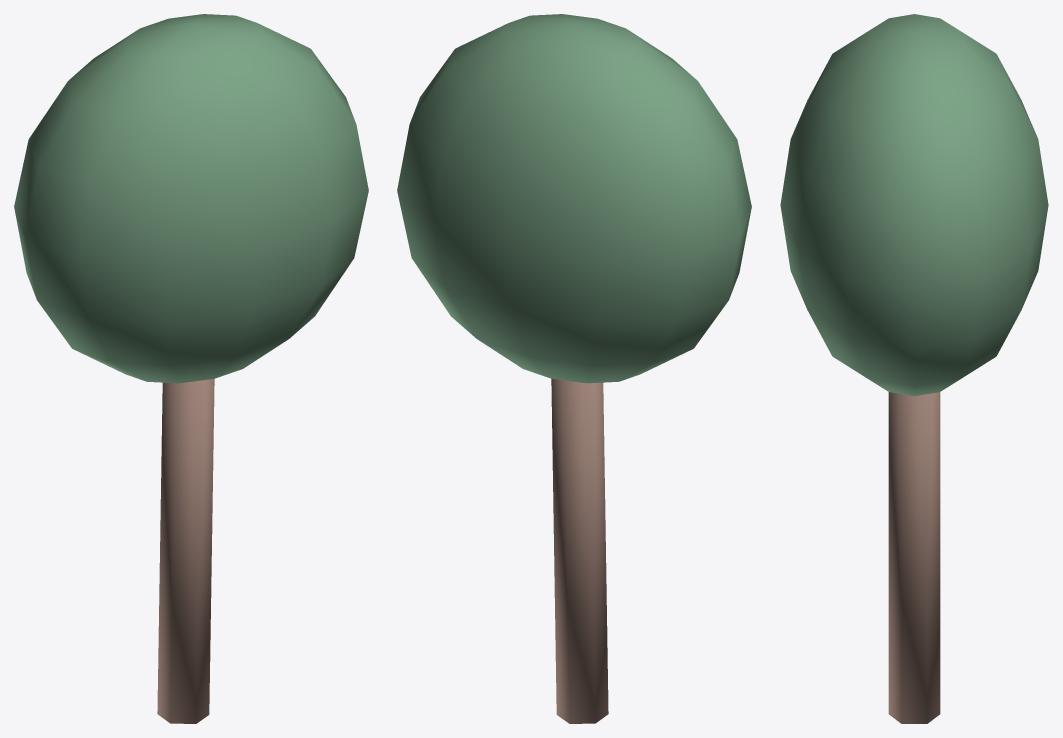
File: ambient_tree_8.glb
3 views of the same model, side by side, from view 1: azimuth 30°, elevation 25°; view 2: azimuth 150°, elevation 25°; view 3: azimuth 270°, elevation 25° (orthographic).
Visible parts, largest first — view 1: ambient_tree_8; view 2: ambient_tree_8; view 3: ambient_tree_8.
Boxes of the visible parts, x1=… form: ambient_tree_8: x1=14, y1=14, x2=368, y2=723; ambient_tree_8: x1=397, y1=14, x2=751, y2=723; ambient_tree_8: x1=780, y1=14, x2=1048, y2=723.
Size of the model in its own units: 1.97 by 3.9 by 1.38.
